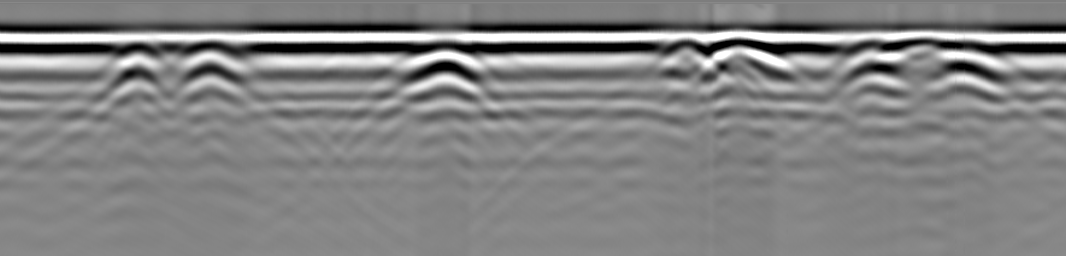pipe: (178, 38, 243, 79), (410, 41, 484, 77), (110, 41, 164, 83), (940, 38, 1000, 75), (718, 35, 784, 67), (848, 35, 906, 66), (661, 38, 711, 68), (900, 32, 944, 62)
